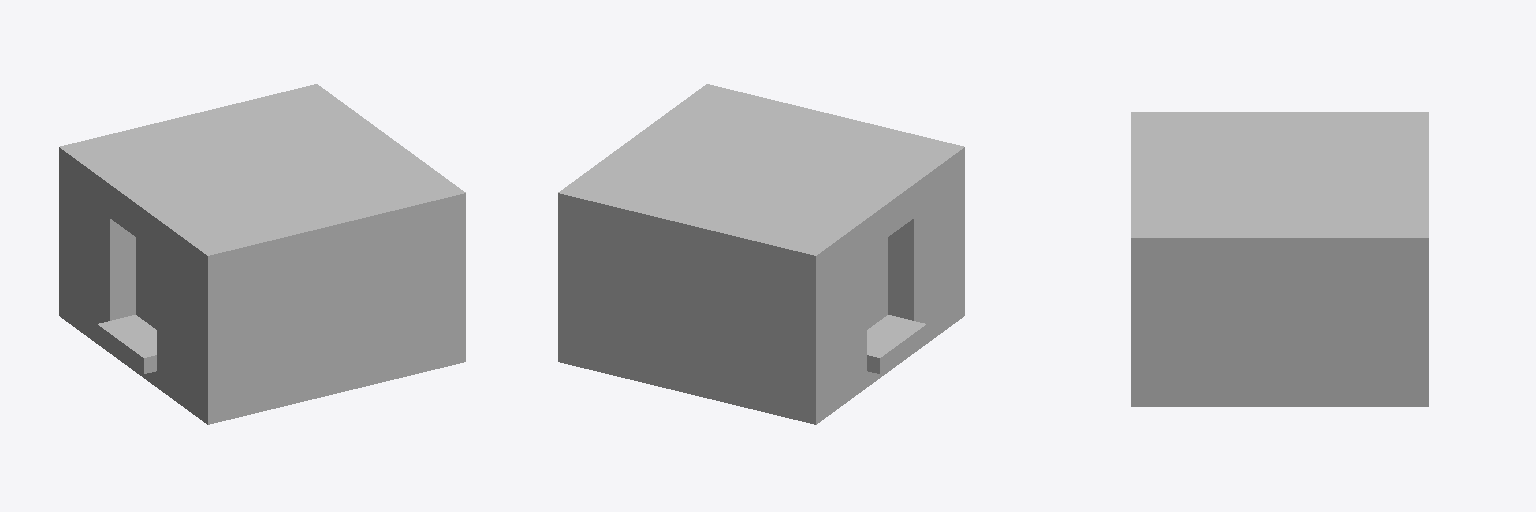
3 renders of one model, left to right at view 1: azimuth 30°, elevation 25°; view 2: azimuth 150°, elevation 25°; view 3: azimuth 270°, elevation 25°, orthographic.
Visible parts, largest first — view 1: G-__555978_G-__555978_Brick, G-__555978_G-__555978_Glass; view 2: G-__555978_G-__555978_Brick, G-__555978_G-__555978_Glass; view 3: G-__555978_G-__555978_Brick.
Boxes of the visible parts, box(x1,y1,x2,y2) form: G-__555978_G-__555978_Brick: box(59, 84, 465, 424); G-__555978_G-__555978_Glass: box(136, 238, 156, 329); G-__555978_G-__555978_Brick: box(558, 84, 964, 424); G-__555978_G-__555978_Glass: box(867, 238, 887, 329); G-__555978_G-__555978_Brick: box(1131, 112, 1428, 406).
Bounding box in the file's own units: 1.05 × 0.625 × 1.